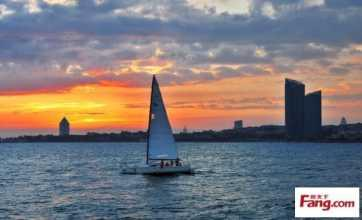fanchuan: (122, 71, 193, 175)
